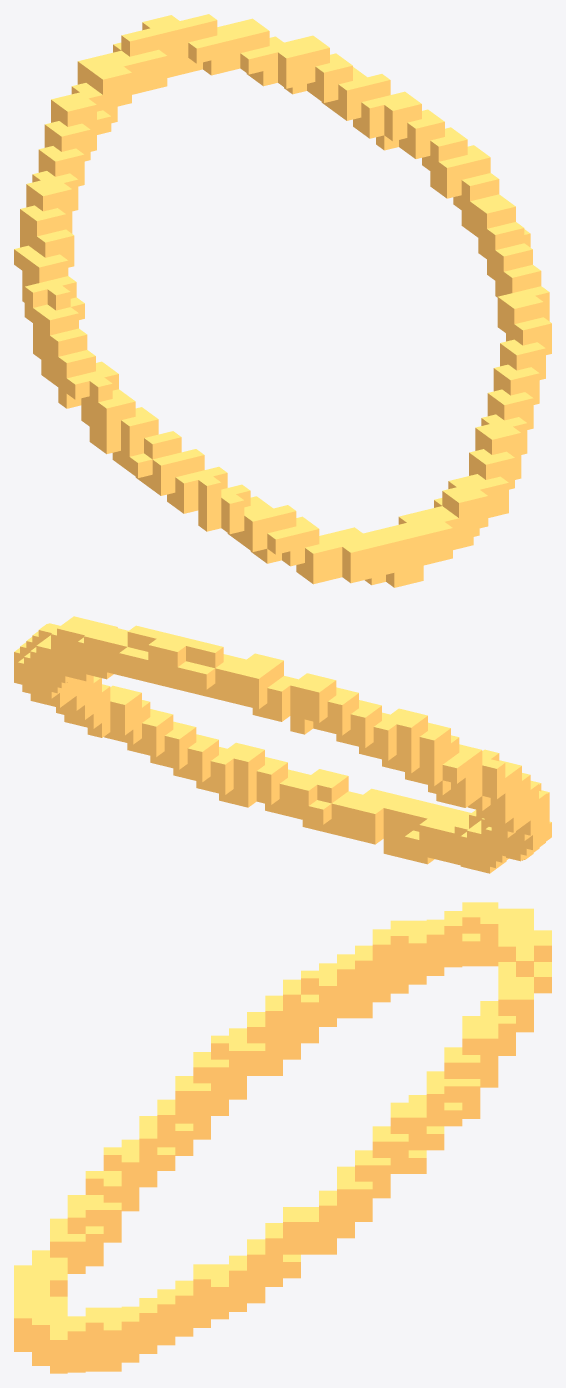
The model's file is gold.gltf.
The picture shows the model from 3 angles, top to bottom: view 1: azimuth 30°, elevation 25°; view 2: azimuth 150°, elevation 25°; view 3: azimuth 270°, elevation 25°; orthographic projection. The views are drawn at different scales.
Parts seen in each view (by area): view 1: 项链.1; view 2: 项链.1; view 3: 项链.1.
Part boxes in pixels (left/top/right/bottom): 项链.1: left=14, top=14, right=551, bottom=587; 项链.1: left=14, top=616, right=551, bottom=873; 项链.1: left=14, top=902, right=551, bottom=1373.
Size of the model in its own units: 3.96 by 3 by 3.6.
